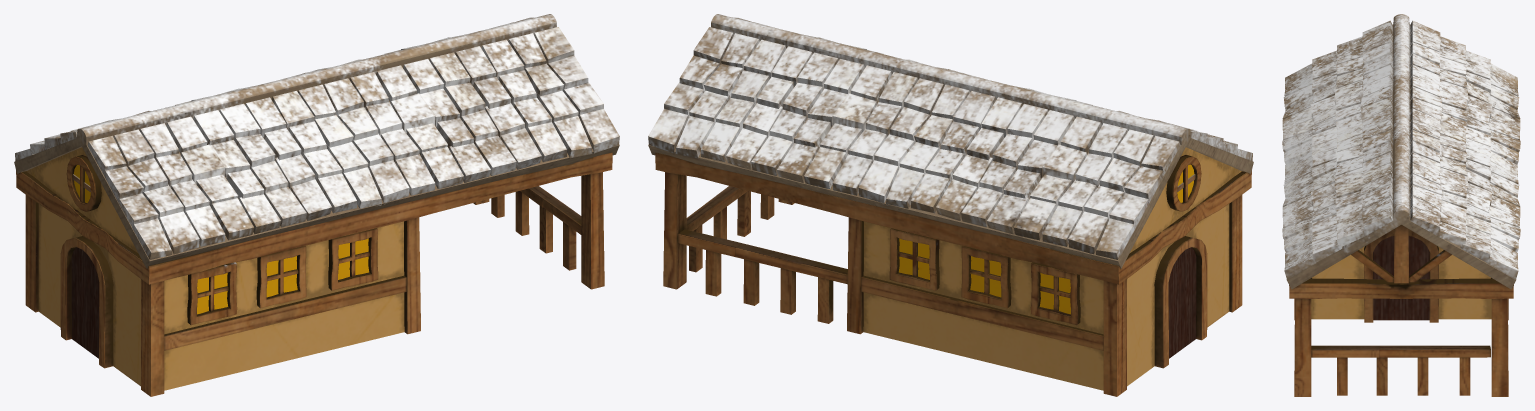
File: StationHouse01.fbx
3 views of the same model, side by side, from view 1: azimuth 30°, elevation 25°; view 2: azimuth 150°, elevation 25°; view 3: azimuth 270°, elevation 25° (orthographic). The views are drawn at different scales.
Parts seen in each view (by area): view 1: StationHouse_01; view 2: StationHouse_01; view 3: StationHouse_01.
Part boxes in pixels (left/top/right/bottom): StationHouse_01: left=14, top=14, right=619, bottom=396; StationHouse_01: left=648, top=14, right=1253, bottom=396; StationHouse_01: left=1282, top=14, right=1520, bottom=396.
Bounding box in the file's own units: 266 × 120 × 136.
